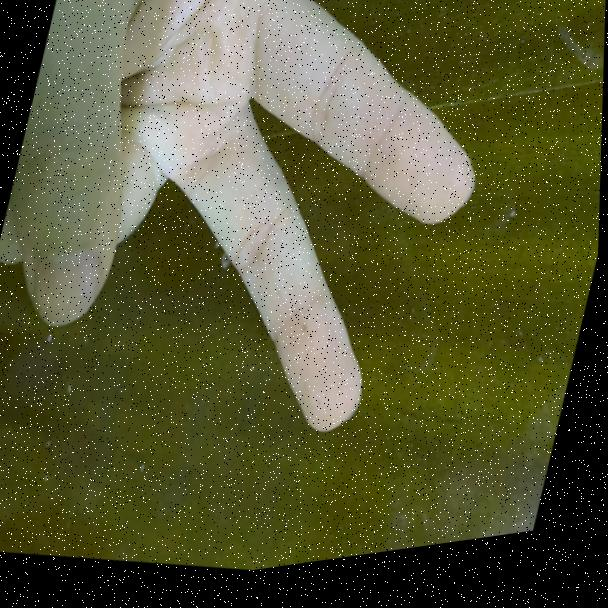two: (0, 0, 527, 499)
